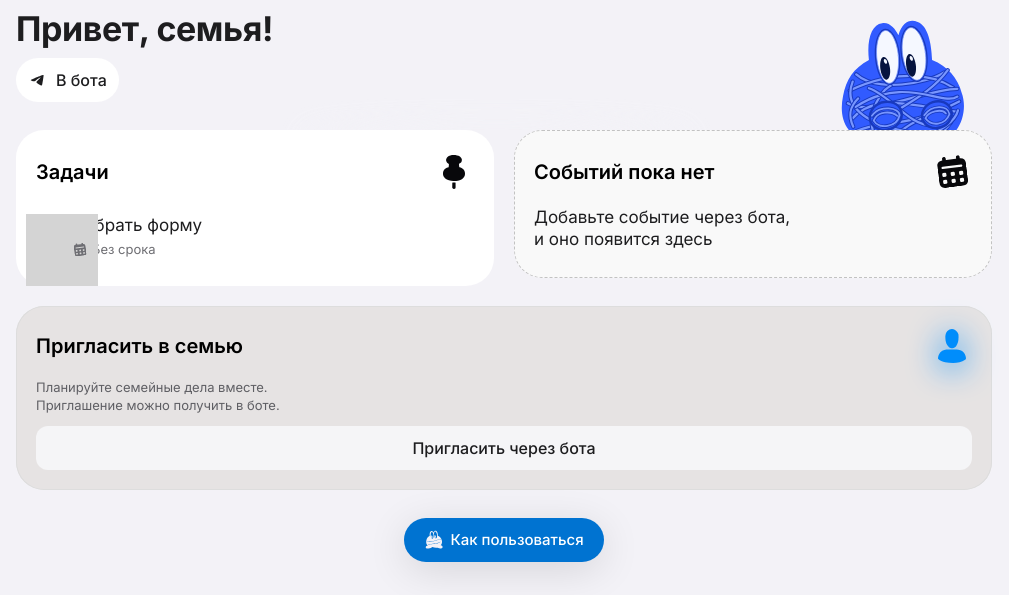
Scenario: home data states › retains the task on failure and retries on the same checkbox
This screenshot has width=1009, height=595.
Click the checkbox.
click(48, 236)  # box [26, 214, 70, 258]
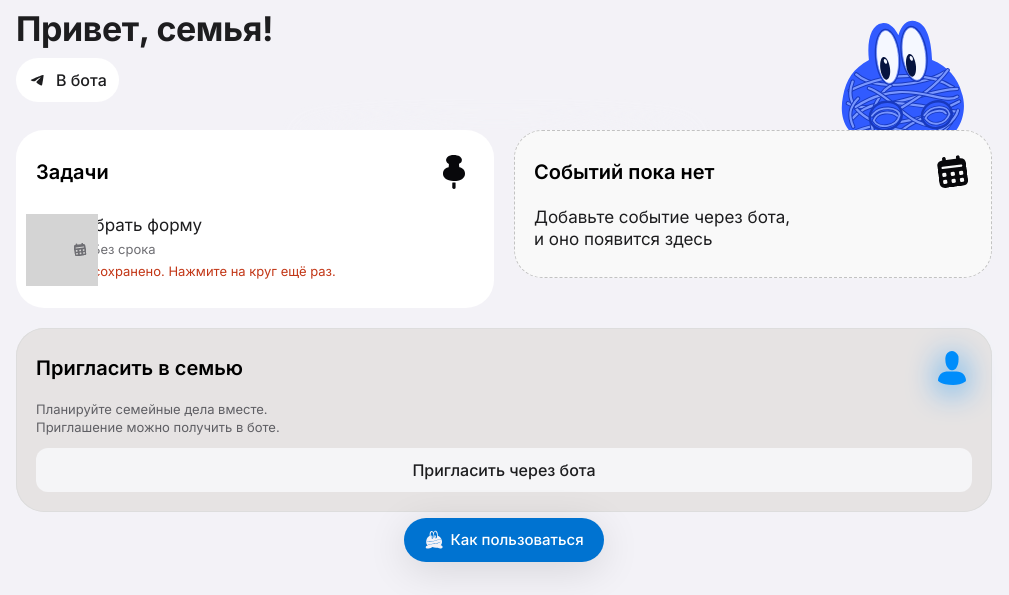
Expected: the text "Собрать форму" is shown, [72, 215, 202, 235]
Result: the message "Не сохранено. Нажмите на круг ещё раз." is shown at [72, 263, 336, 279]
Click the checkbox named "Повторить выполнение".
click(48, 236)  # box [26, 214, 70, 258]
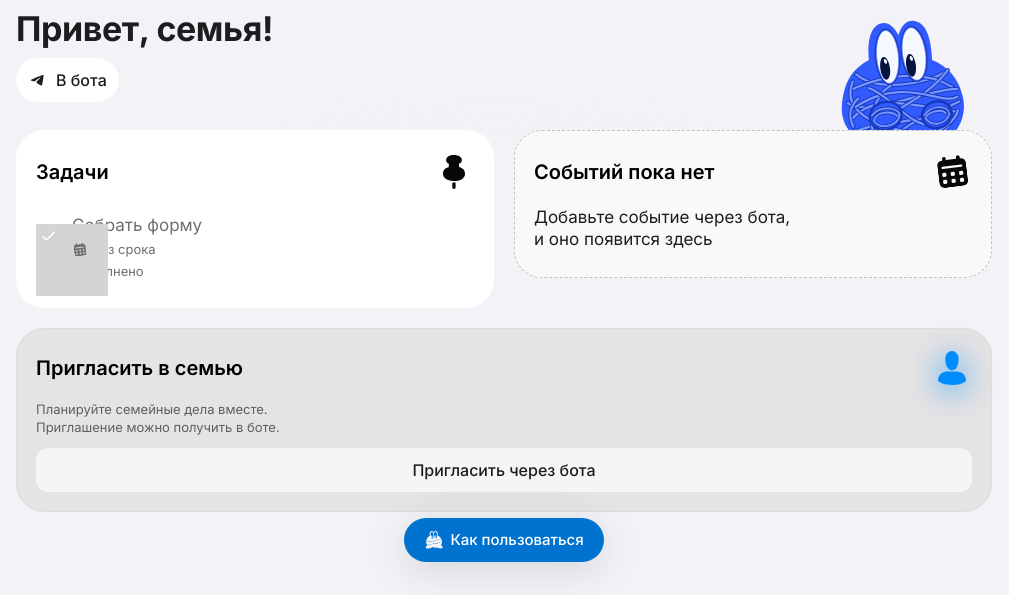
Result: the text "Выполнено" is shown at [72, 263, 144, 279]
